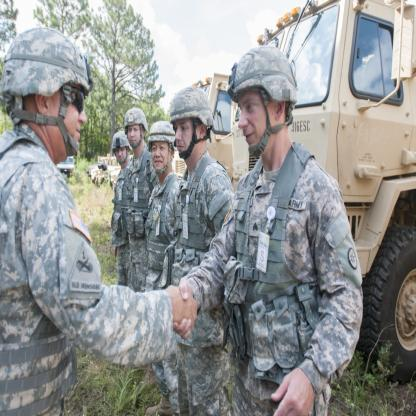Helmet: (5, 31, 90, 153), (227, 44, 297, 158), (170, 86, 212, 159), (146, 119, 176, 174), (123, 107, 149, 150), (111, 132, 132, 165)
